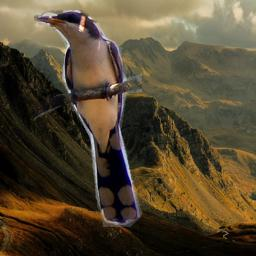Cuckoo: (34, 10, 142, 227)
